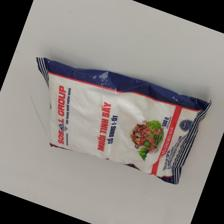Salt: (31, 55, 221, 184)
